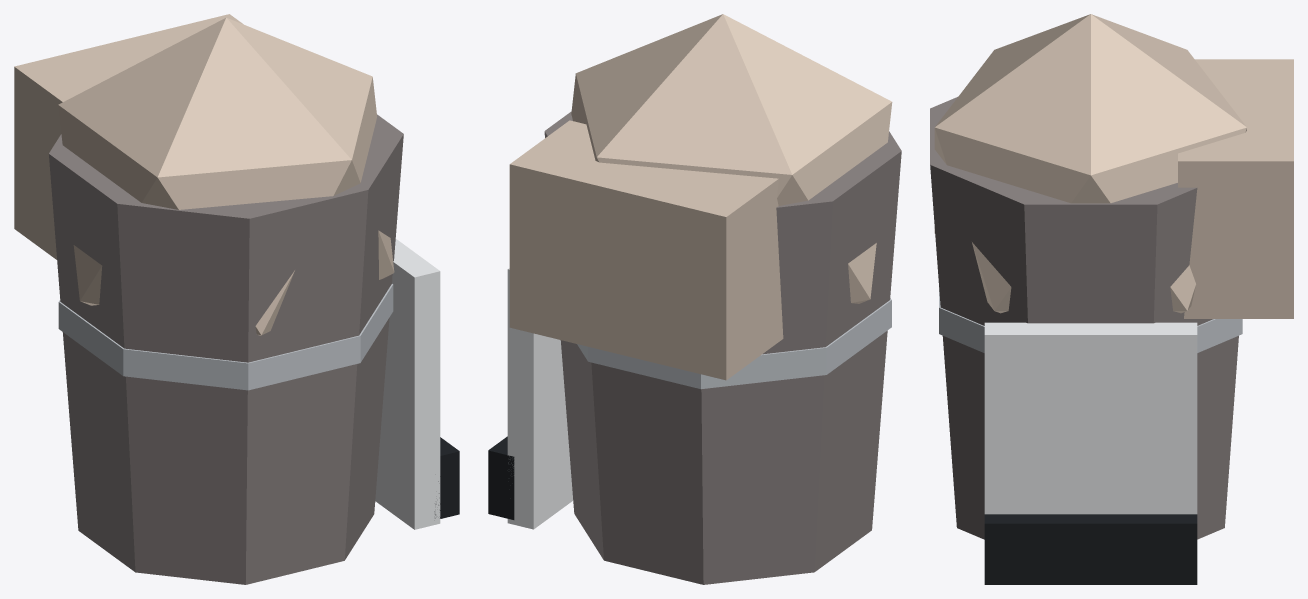
File: inf_possum_lower_arm_r.fbx
3 renders of one model, left to right at view 1: azimuth 30°, elevation 25°; view 2: azimuth 150°, elevation 25°; view 3: azimuth 270°, elevation 25°, orthographic. The views are drawn at different scales.
Visible parts, largest first — view 1: inf_possum_lower_arm_r; view 2: inf_possum_lower_arm_r; view 3: inf_possum_lower_arm_r.
Part boxes in pixels (x1,y1,x2,y2): inf_possum_lower_arm_r: (14,14,459,584); inf_possum_lower_arm_r: (488,14,901,584); inf_possum_lower_arm_r: (930,14,1293,584).
Size of the model in its own units: 75.49 by 112 by 75.26.
